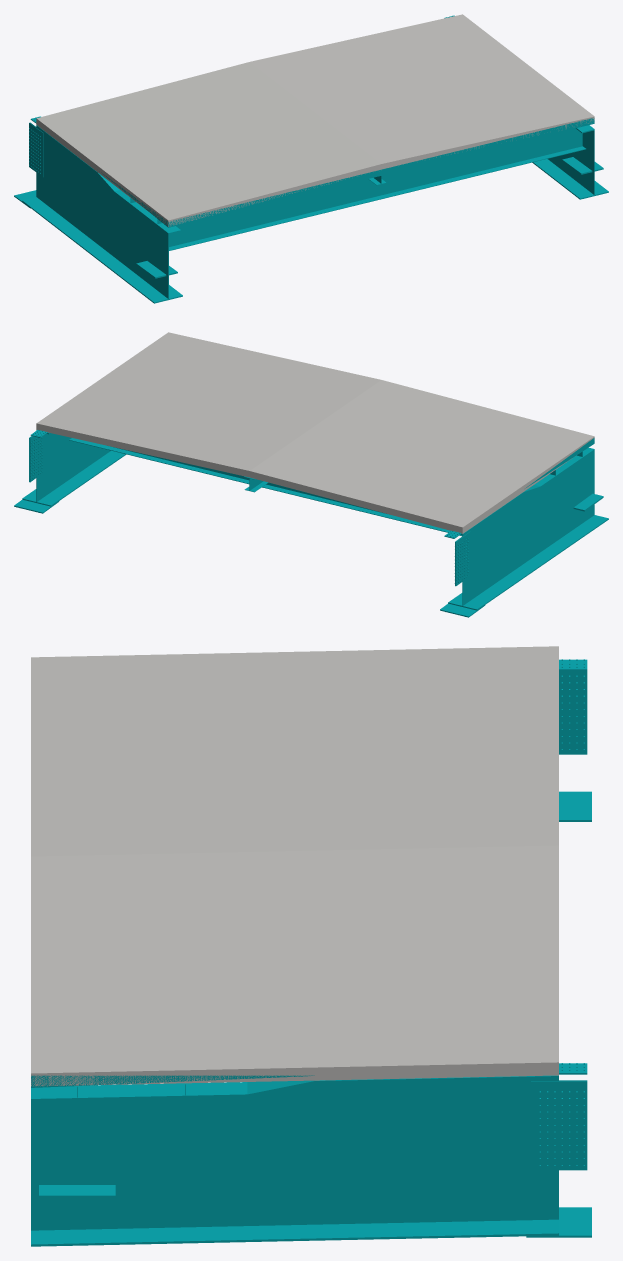
The model's file is DECK_NP.glb.
The picture shows the model from 3 angles, top to bottom: view 1: azimuth 30°, elevation 25°; view 2: azimuth 150°, elevation 25°; view 3: azimuth 270°, elevation 25°; orthographic projection. The views are drawn at different scales.
Parts seen in each view (by area): view 1: NP_Slab_18, NP_G_W_0, NP_FB_web_11, NP_EndBlock_17, NP_G_E_1, NP_FB_bf_14, NP_SpliceW_20; view 2: NP_Slab_18, NP_G_W_0, NP_G_E_1, NP_FB_bf_6, NP_SpliceW_20, NP_SpliceW_28, NP_FB_web_3; view 3: NP_Slab_18, NP_G_E_1, NP_SpliceW_29, NP_SpliceW_21, NP_EndBlock_17, NP_SpliceB_30, NP_SolePlate_16, NP_SpliceB_22.
Part boxes in pixels (x1,y1,x2,y2): NP_Slab_18: (36, 14, 594, 226); NP_G_W_0: (22, 125, 182, 303); NP_FB_web_11: (157, 128, 582, 246); NP_EndBlock_17: (99, 118, 594, 227); NP_G_E_1: (532, 125, 608, 199); NP_FB_bf_14: (169, 146, 585, 250); NP_SpliceW_20: (29, 122, 43, 176); NP_Slab_18: (36, 332, 594, 533); NP_G_W_0: (448, 447, 608, 610); NP_G_E_1: (22, 430, 126, 506); NP_FB_bf_6: (69, 438, 462, 535); NP_SpliceW_20: (455, 532, 470, 585); NP_SpliceW_28: (30, 436, 44, 482); NP_FB_web_3: (113, 447, 386, 513); NP_Slab_18: (31, 646, 558, 1086); NP_G_E_1: (31, 1075, 558, 1246); NP_SpliceW_29: (531, 1081, 587, 1170); NP_SpliceW_21: (559, 671, 587, 754); NP_EndBlock_17: (31, 1075, 314, 1087); NP_SpliceB_30: (526, 1207, 591, 1237); NP_SolePlate_16: (39, 1185, 115, 1198); NP_SpliceB_22: (559, 791, 591, 821).
Size of the model in its own units: 18.26 by 3.44 by 9.75.
